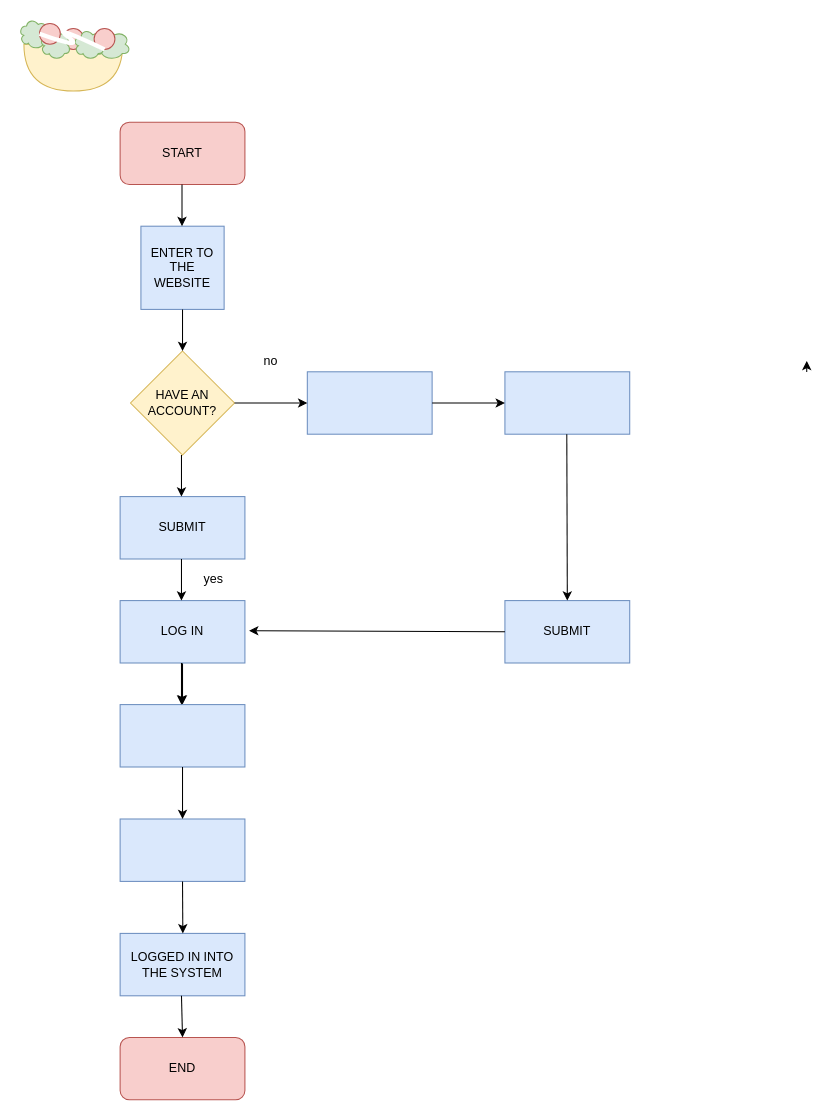
Image size: 833x1118. Some labels were removed from this diagram. Here are the shapes that lost their labels. From the top down, the box of each, then its label:
(306, 371, 432, 434): SIGN UP
(504, 371, 630, 434): FILL OUT THE FORM
(119, 704, 245, 767): ENTER CREDENTIALS
(119, 818, 245, 881): EMAIL AND PASSWORD VALIDATION
